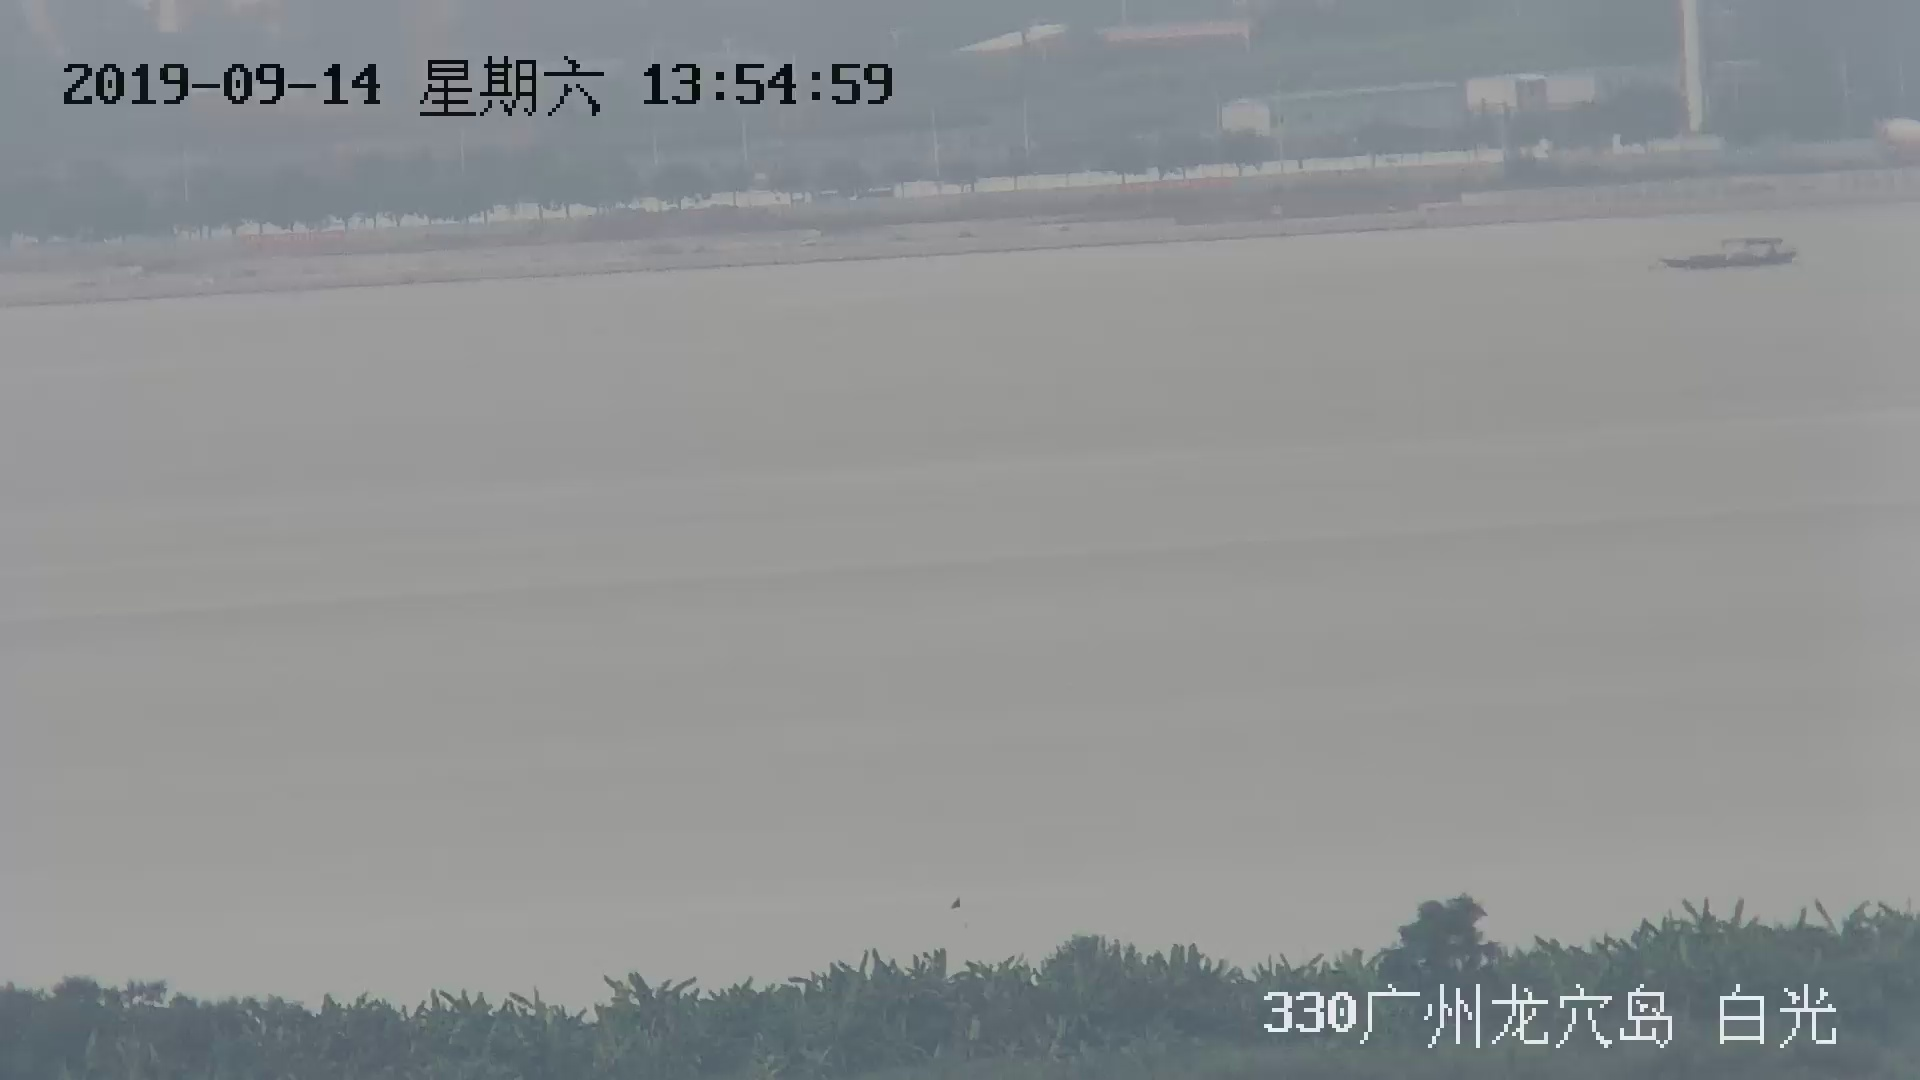ship: (1658, 236, 1795, 272)
